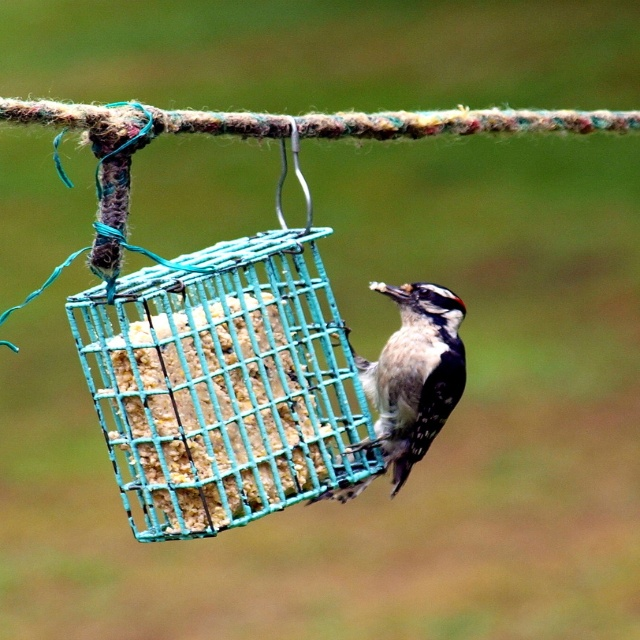Woodpecker: (304, 282, 467, 508)
